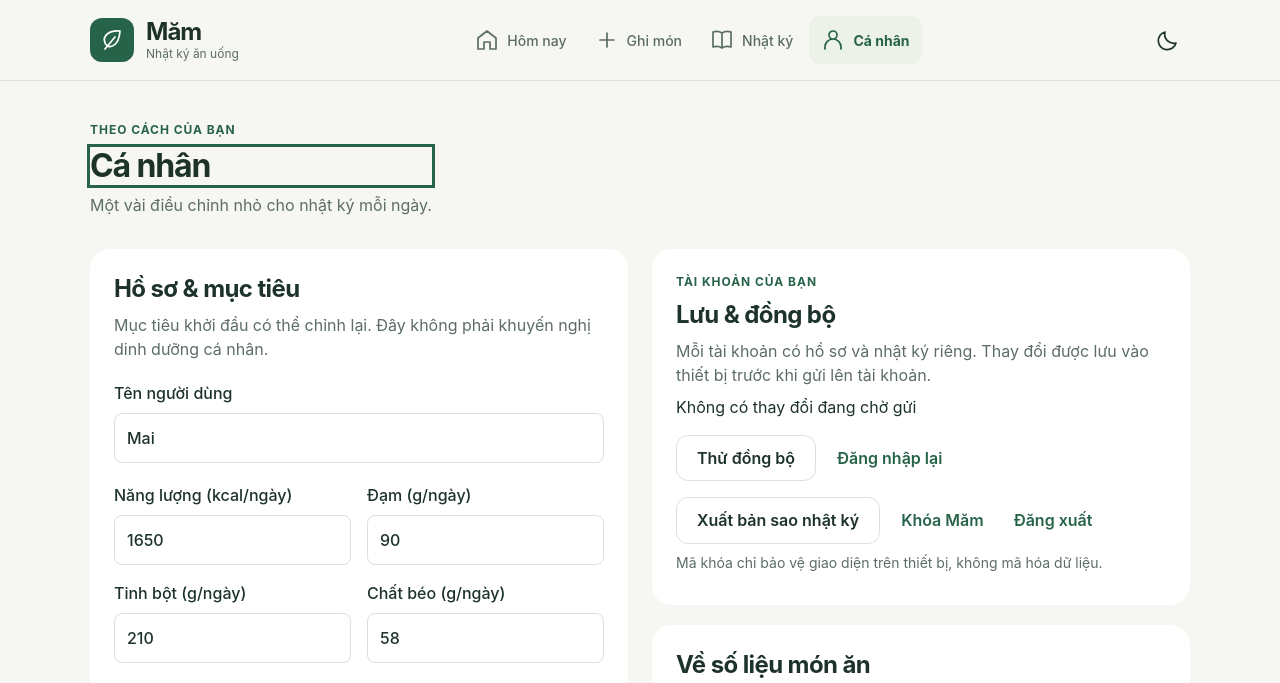
Test: account and session flows › saves edited daily targets and identifies the pending cloud outbox
Replace the text in the field labelled "Tên người dùng" with "Linh" at (359, 438), box [114,413,604,463]
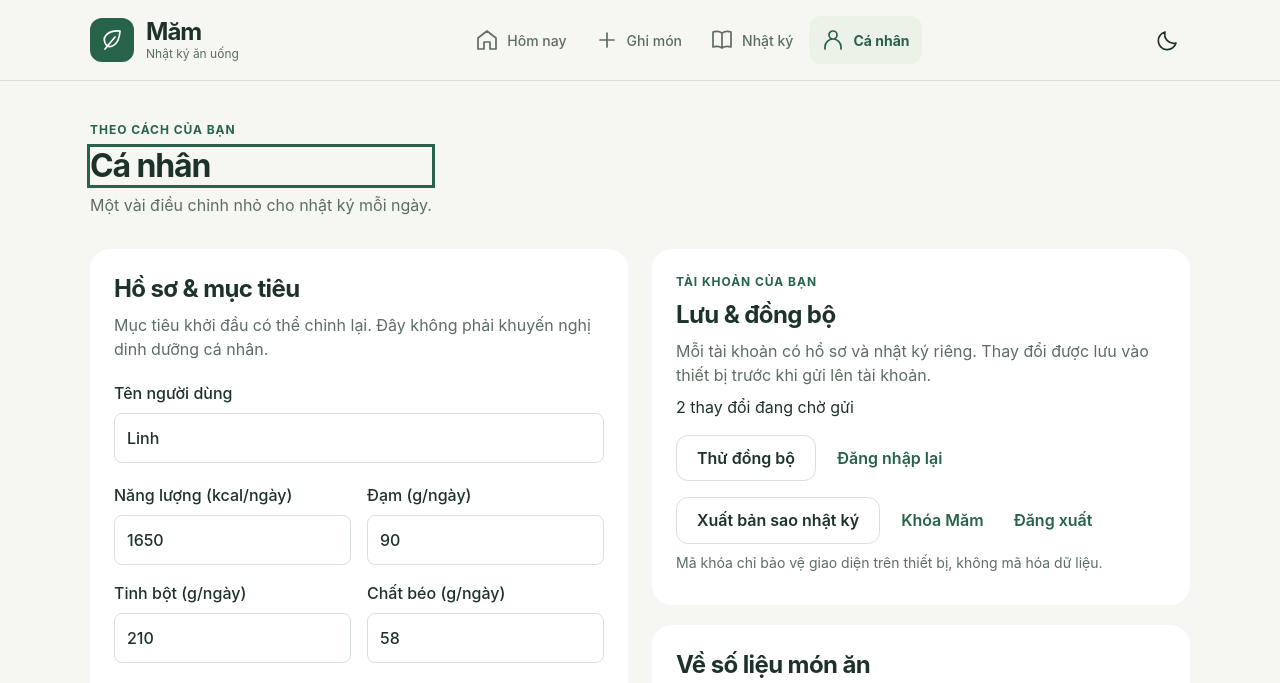
Replace the text in the number field labelled "Năng lượng (kcal/ngày)" with "2000" at (232, 540), box [114,515,351,565]
(page scrolled)
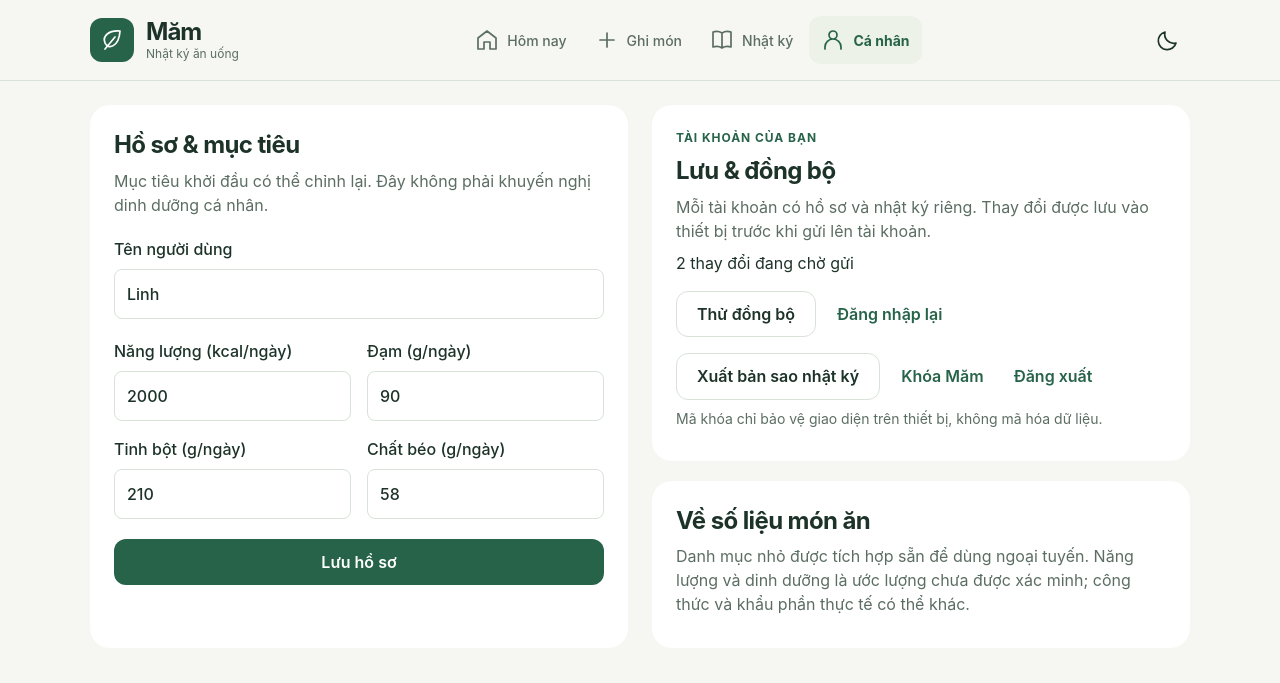
Click the button "Lưu hồ sơ" at (359, 562), box [114,539,604,585]
(page scrolled)
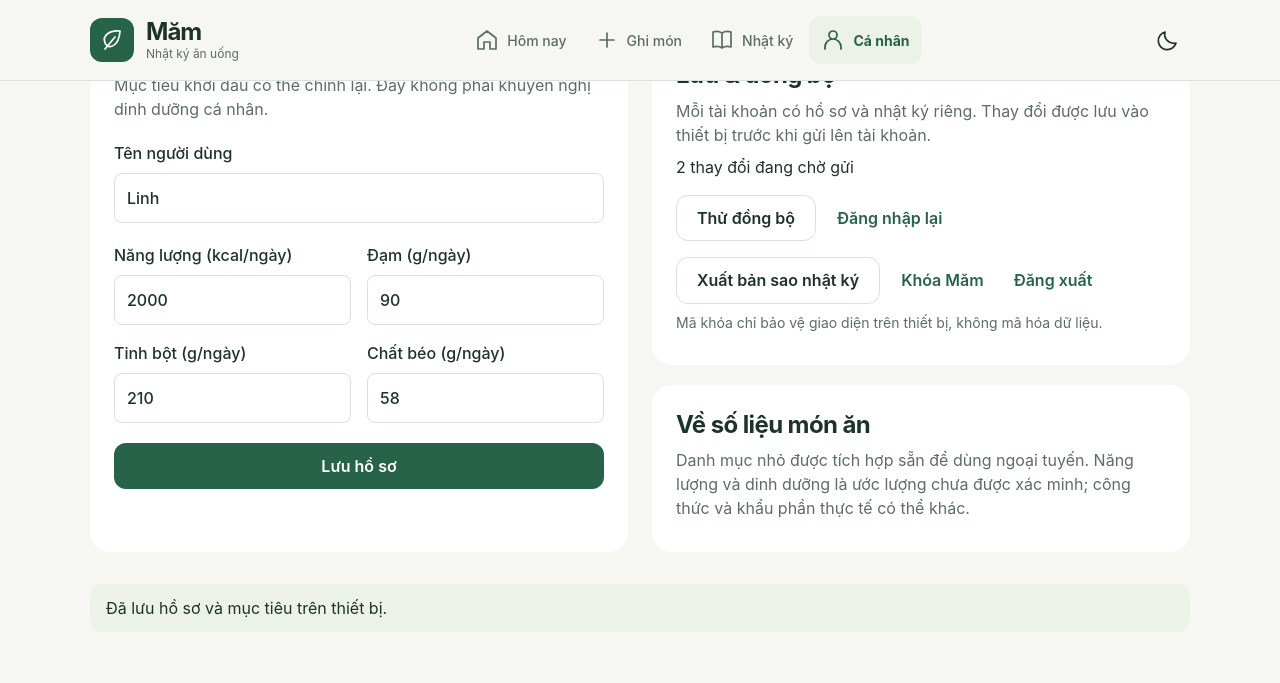
Expected: the text "Đã lưu hồ sơ và mục tiêu trên thiết bị." is shown, [90,584,1190,632]
